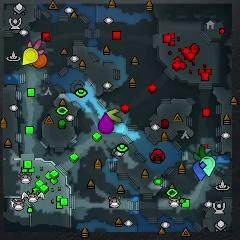p1: (193, 160, 207, 182)
p2: (200, 155, 216, 176)
p3: (98, 112, 114, 134)
p4: (22, 47, 38, 66)
p5: (32, 54, 47, 68)
x1: (27, 40, 44, 53)
x2: (107, 109, 122, 124)
x4: (193, 145, 211, 161)
